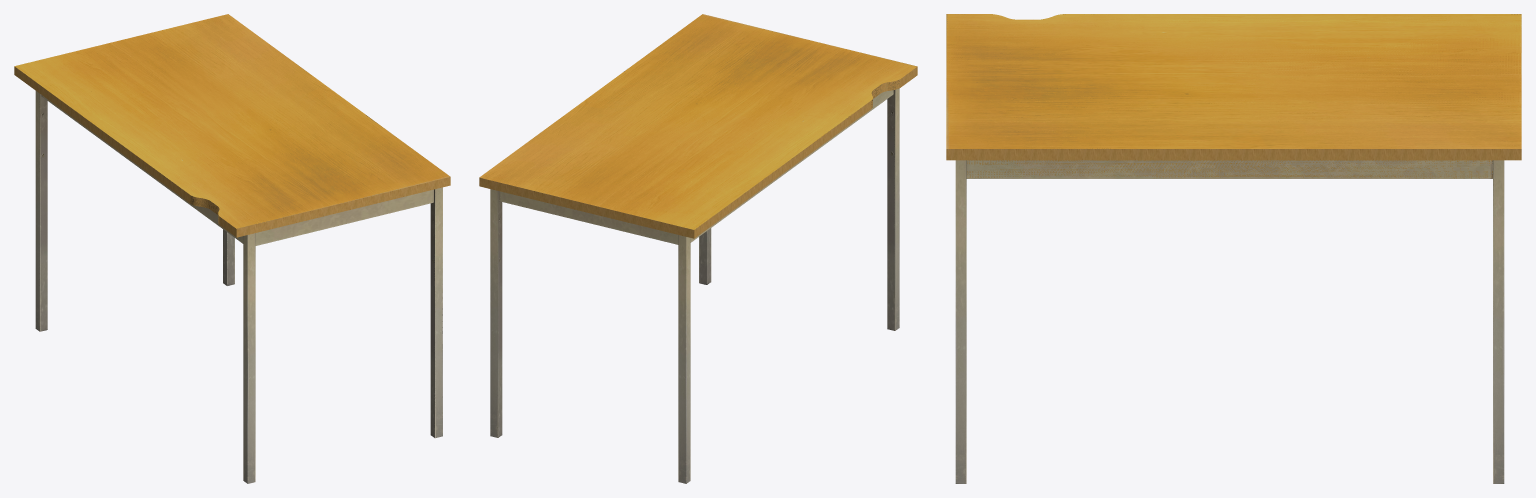
The model's file is desk_right_side_of_TV.dae.
3 views of the same model, side by side, from view 1: azimuth 30°, elevation 25°; view 2: azimuth 150°, elevation 25°; view 3: azimuth 270°, elevation 25° (orthographic). The views are drawn at different scales.
Visible parts, largest first — view 1: コンポーネント_1 (×5), コンポーネント_2 (×6); view 2: コンポーネント_1 (×4), コンポーネント_2 (×6); view 3: コンポーネント_1 (×3), コンポーネント_2 (×2).
Part boxes in pixels (x1,y1,x2,y2): コンポーネント_1 (×5): (14,14,450,245); コンポーネント_2 (×6): (35,91,442,483); コンポーネント_1 (×4): (479,14,917,244); コンポーネント_2 (×6): (490,88,899,483); コンポーネント_1 (×3): (946,14,1521,178); コンポーネント_2 (×2): (955,160,1504,483).
Bounding box in the file's own units: 23.62 × 42.52 × 27.55.
Materials: 9 (7 with a texture image).
